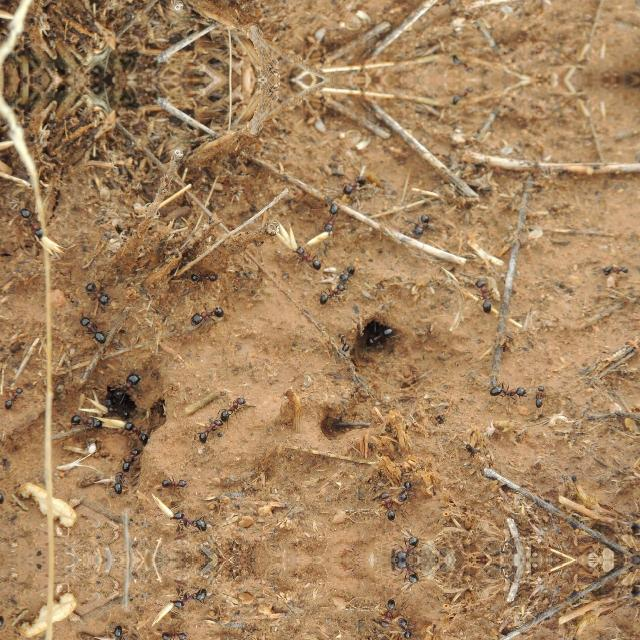Messor: (18, 207, 52, 243), (70, 313, 106, 343), (170, 508, 208, 536), (170, 584, 208, 612), (486, 381, 530, 403), (188, 304, 224, 330), (219, 393, 249, 421), (115, 370, 141, 400), (293, 244, 323, 270), (189, 266, 223, 288), (376, 489, 398, 523), (376, 597, 398, 631), (120, 420, 148, 446), (340, 175, 368, 201), (196, 412, 220, 442), (83, 282, 111, 306), (318, 282, 346, 306), (72, 412, 104, 432), (119, 444, 141, 472), (476, 278, 494, 312), (365, 327, 395, 347), (322, 202, 340, 235), (3, 386, 23, 414), (530, 382, 550, 410), (396, 535, 418, 559), (450, 86, 474, 108), (396, 561, 418, 585), (450, 52, 474, 74), (108, 467, 128, 493), (603, 262, 631, 280), (410, 214, 430, 238), (396, 476, 414, 502), (104, 402, 128, 420), (334, 331, 352, 354), (396, 618, 413, 640), (160, 475, 186, 489), (340, 264, 356, 282), (108, 627, 128, 640), (160, 631, 186, 640)
